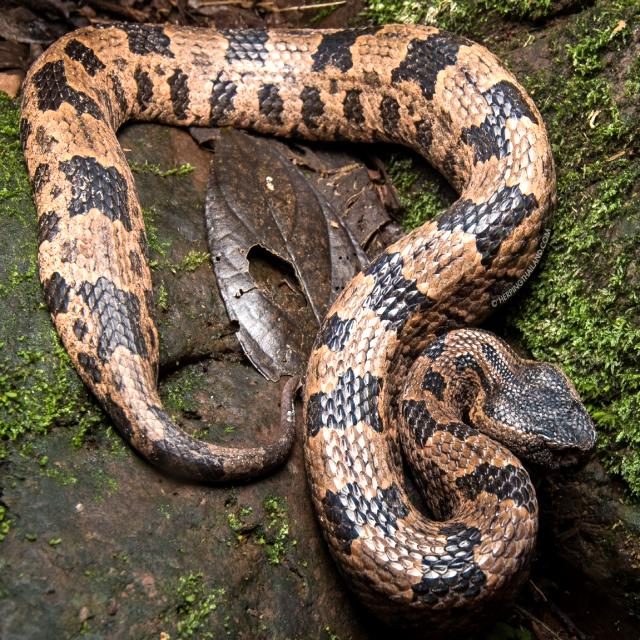Ovophis monticola: (21, 24, 595, 638)
